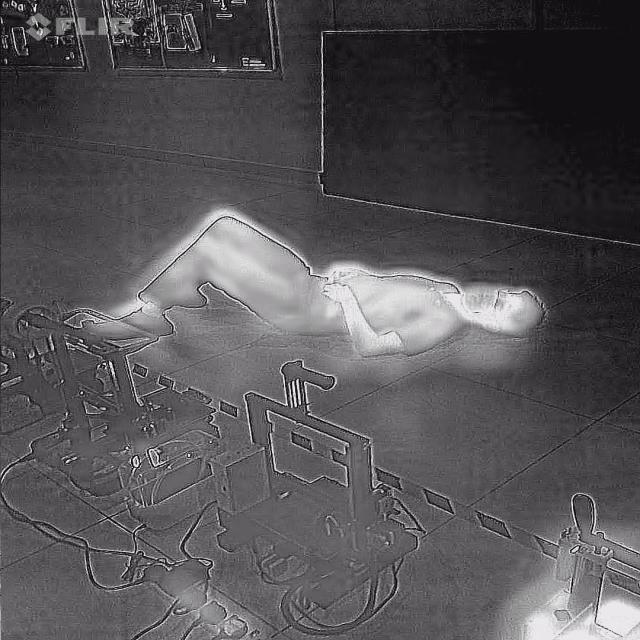Victim: (76, 203, 556, 364)
